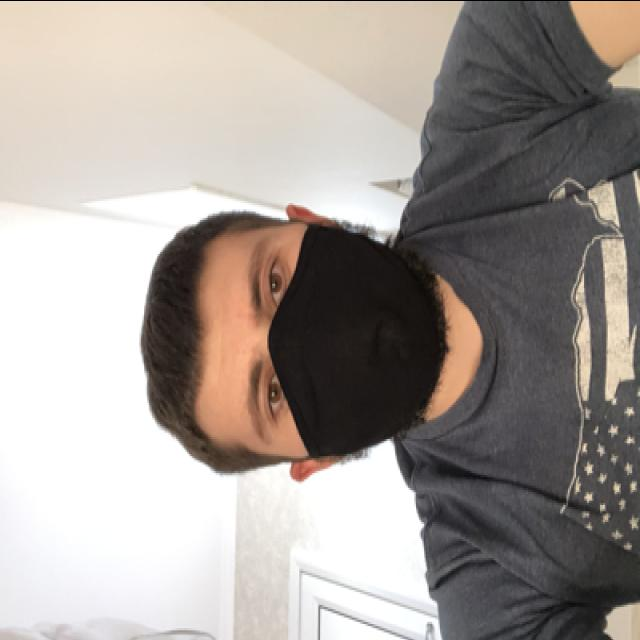mask: (229, 221, 448, 459)
